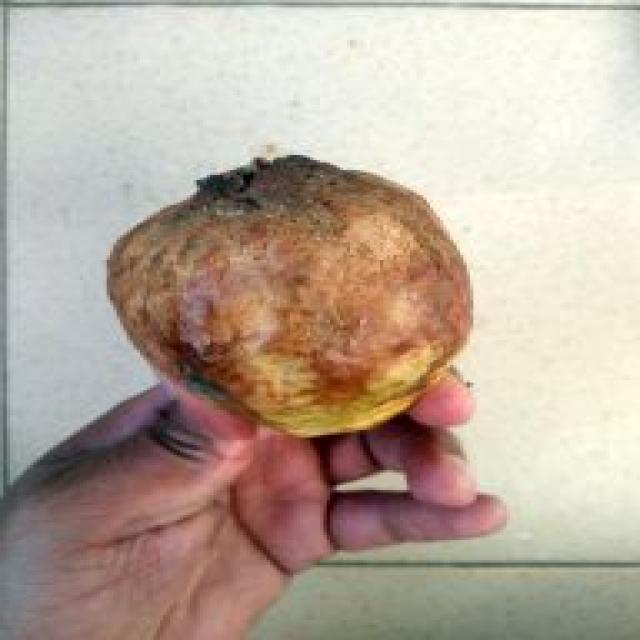Bad_Guava: (108, 155, 472, 437)
